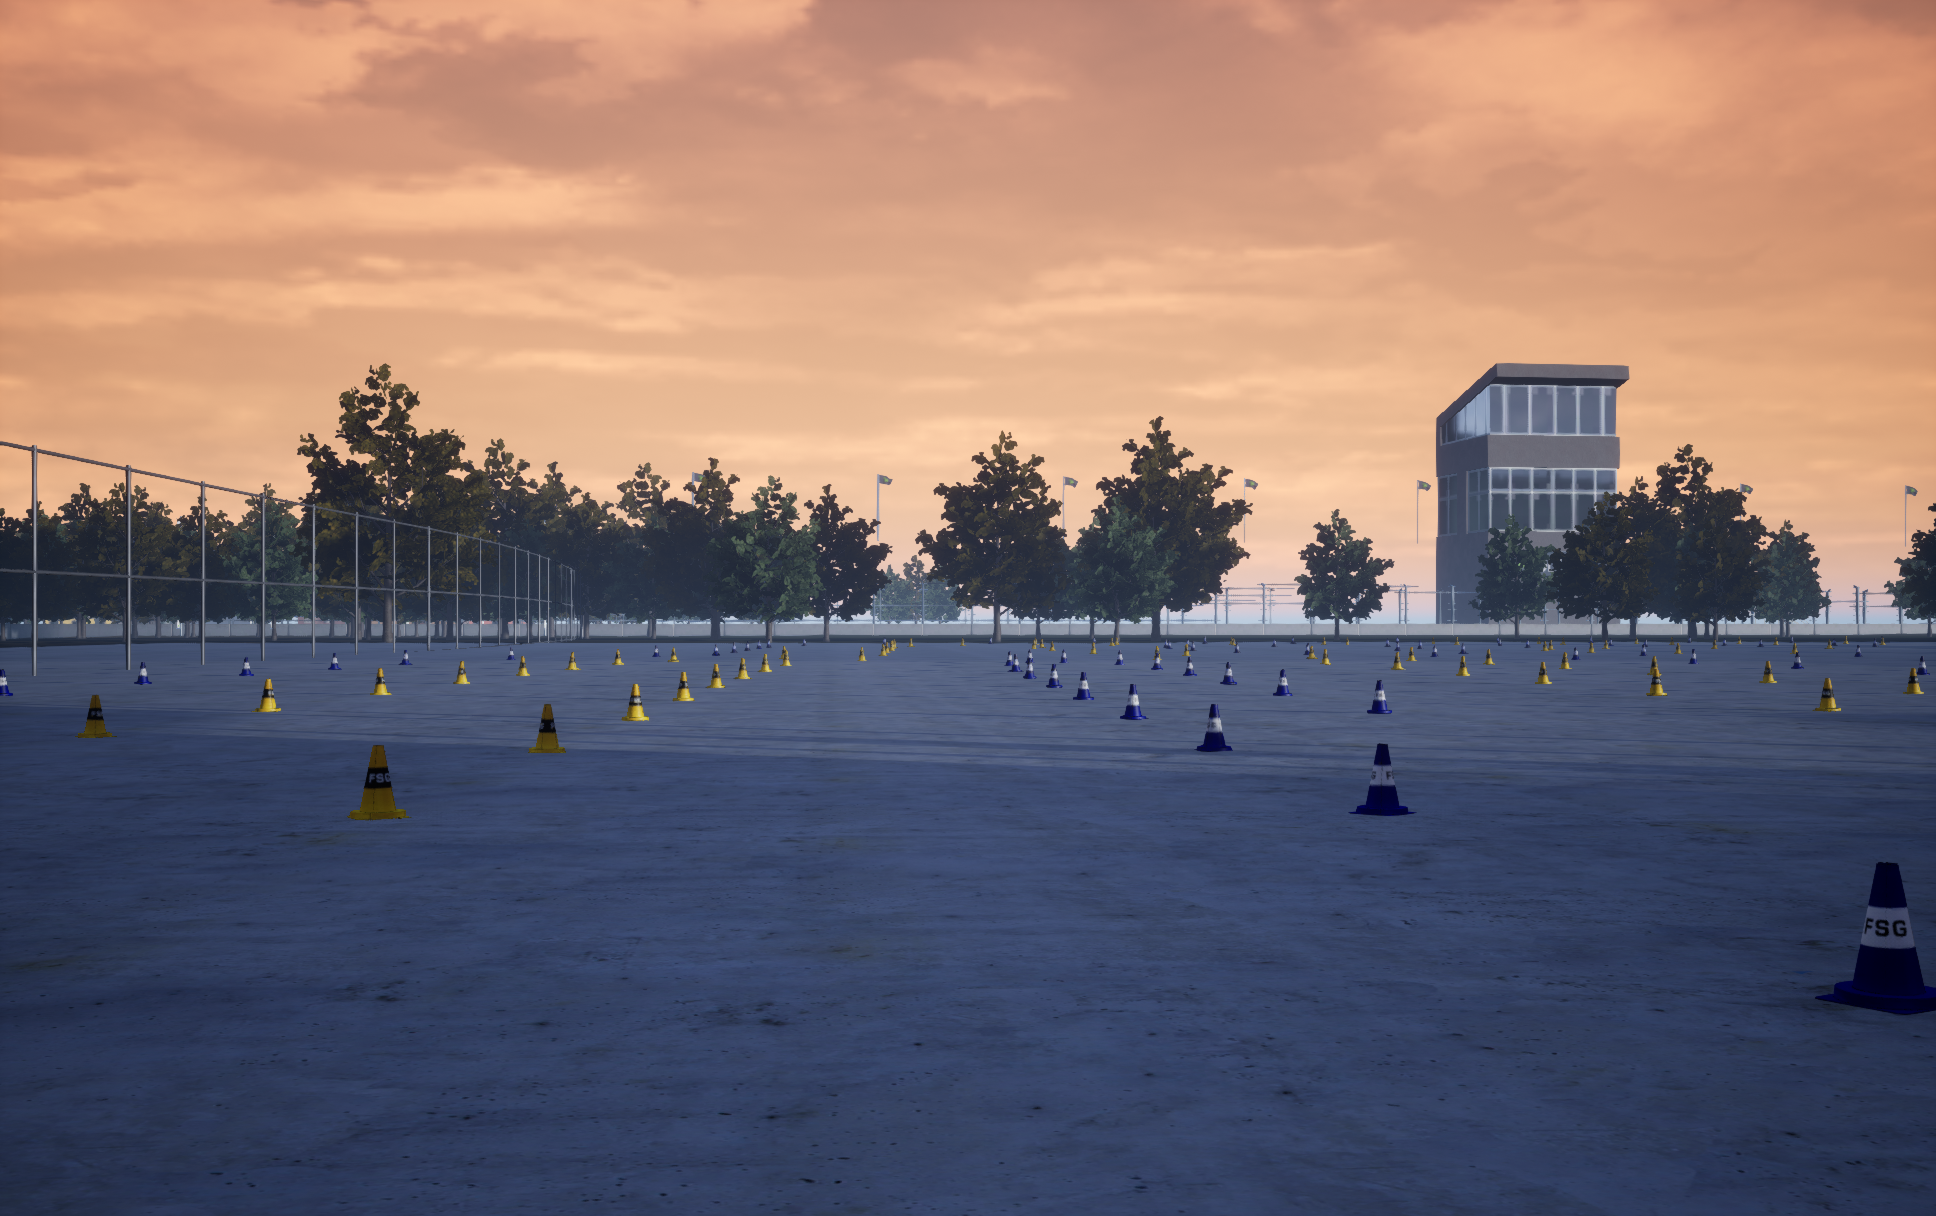blue: (347, 745, 410, 820), (528, 705, 565, 752), (76, 695, 116, 737), (621, 684, 649, 720), (251, 678, 280, 712), (1811, 678, 1839, 712), (672, 672, 693, 700), (1646, 670, 1667, 695), (370, 668, 391, 693), (1902, 668, 1923, 693), (705, 664, 726, 686), (452, 661, 469, 684), (1759, 661, 1776, 684), (733, 658, 751, 678), (1535, 663, 1551, 684), (1456, 656, 1470, 675), (516, 656, 530, 675), (1647, 656, 1661, 675)
yellow: (1816, 862, 1935, 1014), (1348, 742, 1416, 815), (1194, 705, 1231, 751), (1121, 684, 1147, 719), (1367, 679, 1391, 713), (1073, 672, 1093, 699), (1273, 670, 1292, 695), (134, 663, 151, 684), (1046, 664, 1062, 686), (1220, 663, 1236, 684), (0, 670, 13, 695), (1023, 658, 1037, 678), (1007, 654, 1023, 671), (240, 657, 254, 675), (1182, 657, 1196, 675)
